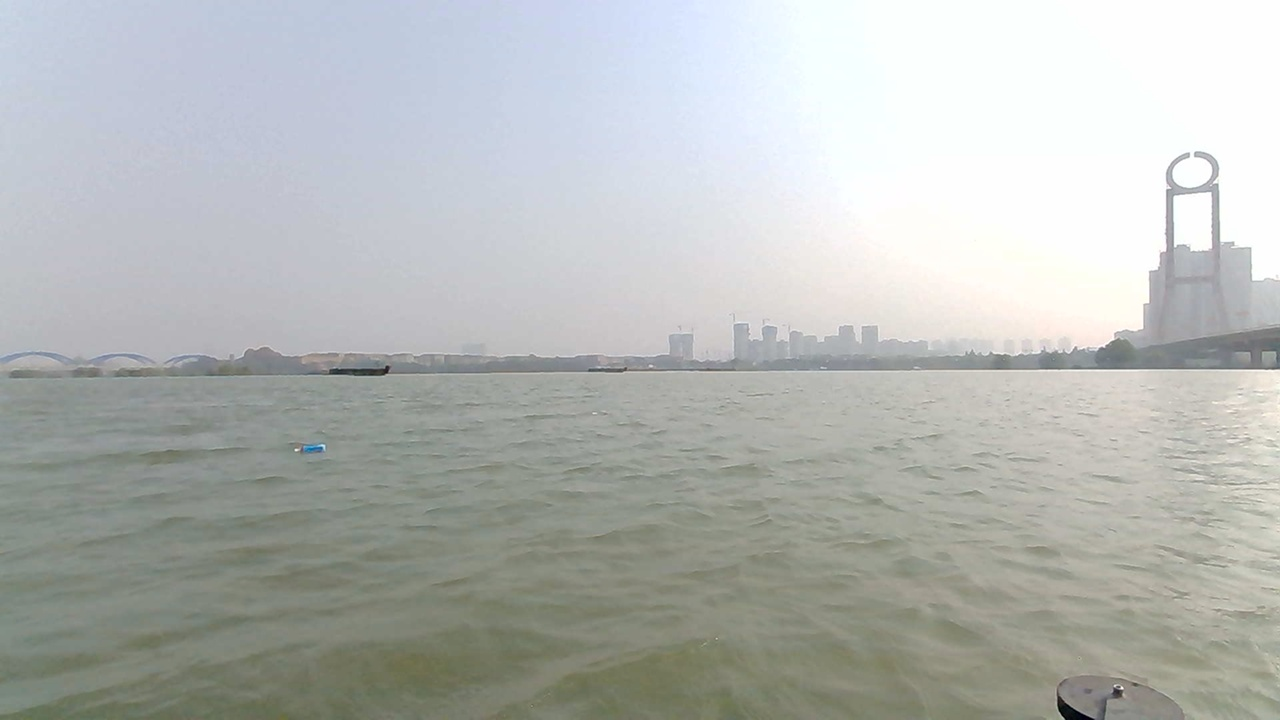bottle: (295, 441, 334, 460)
